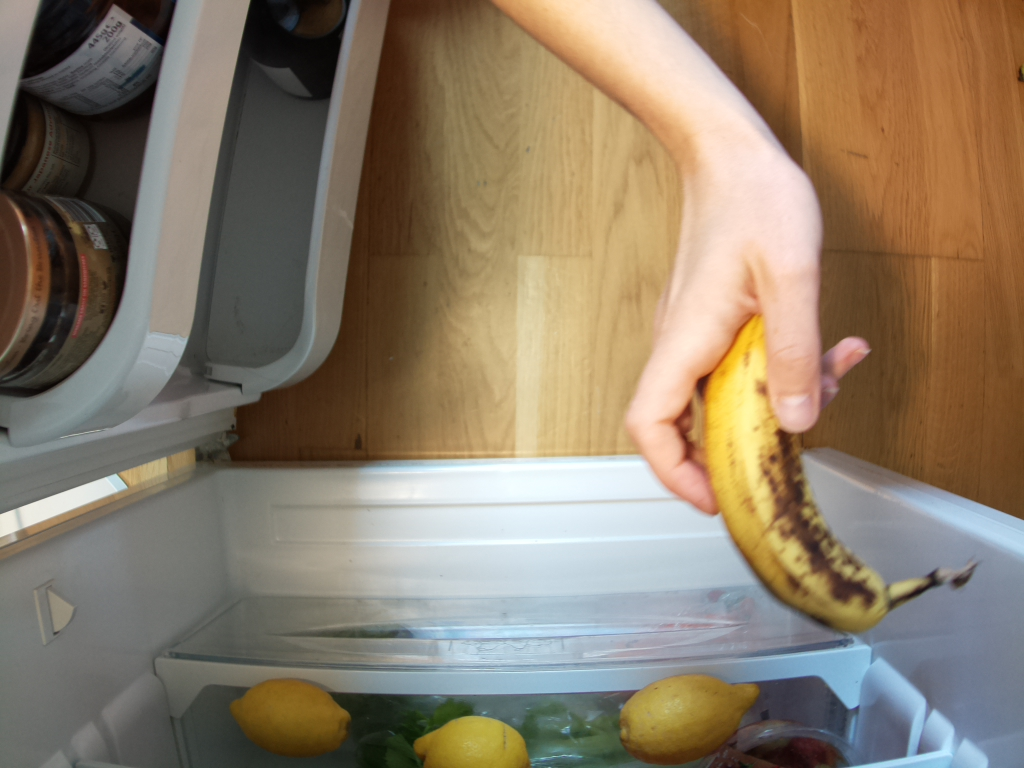banana-overripe: (705, 321, 980, 631)
